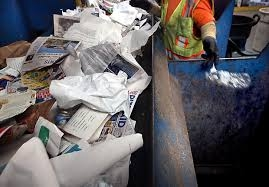paper: (45, 67, 135, 119), (21, 32, 86, 76), (62, 9, 122, 53), (59, 102, 111, 147), (30, 112, 72, 160), (113, 16, 162, 56), (1, 82, 41, 122)
